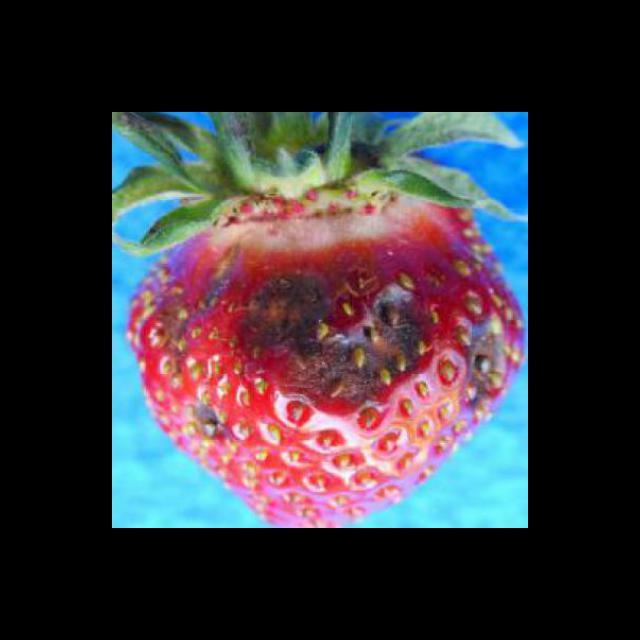Anthracnose Fruit Rot: (153, 232, 517, 443)
